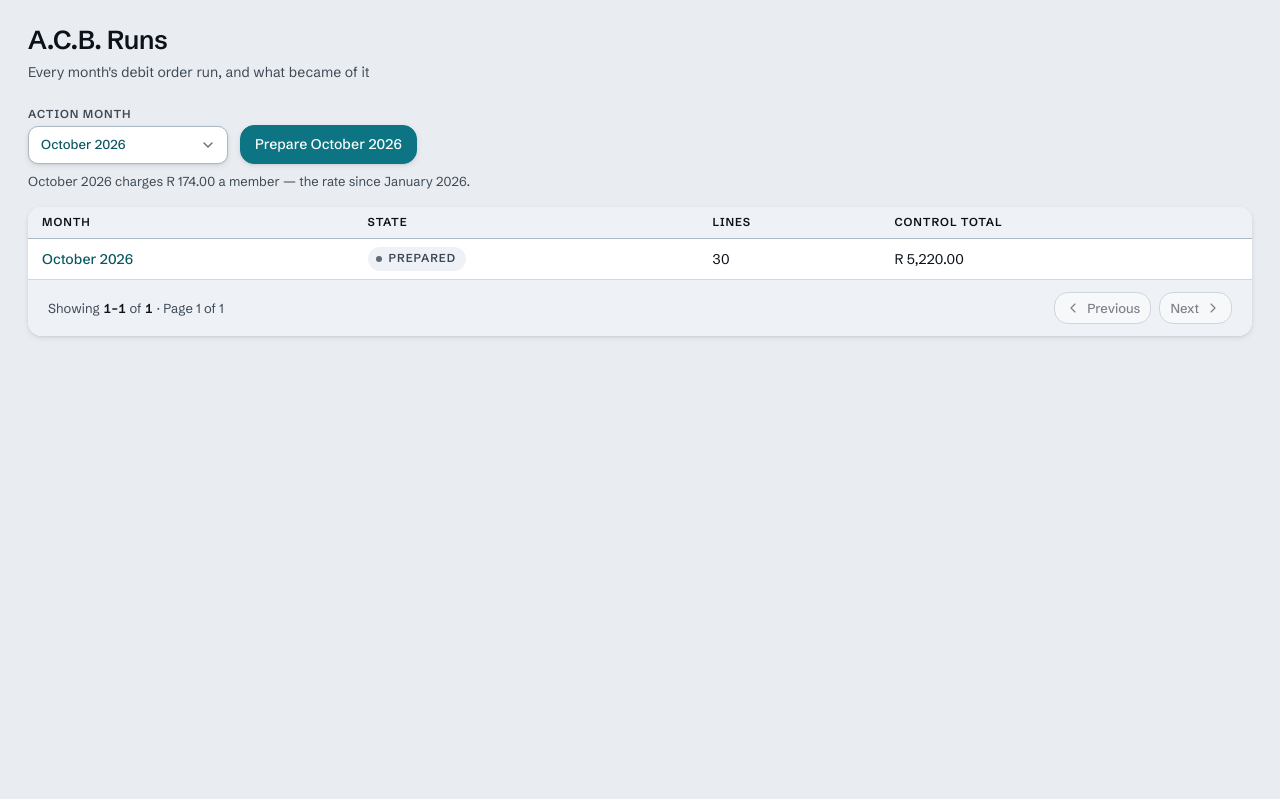
Test: preparing a run › an older list answer arriving last does not put the older list back (R3-F4)
This screenshot has width=1280, height=799.
Step 1. Click the button "Prepare October 2026" → {"x": 328, "y": 145}, box [240,125,417,164]
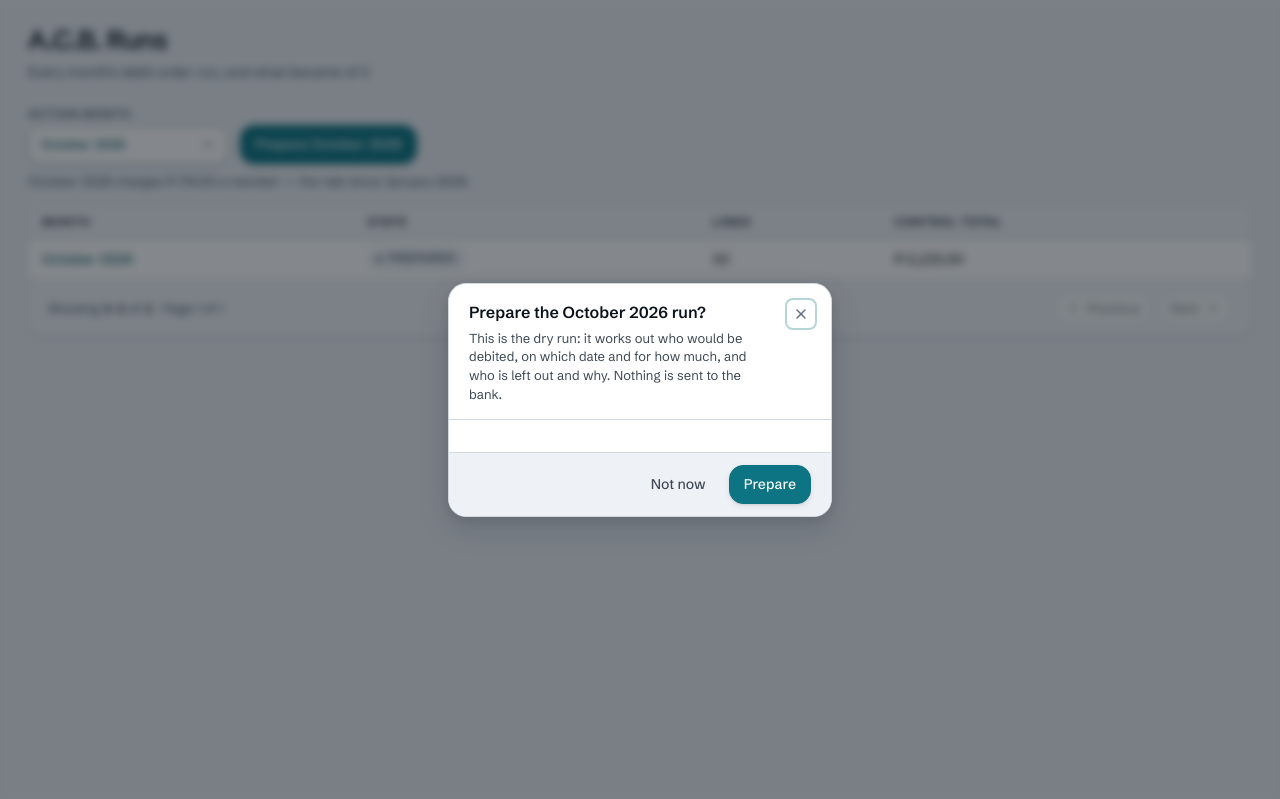
Step 2. Click the button "Prepare" → {"x": 770, "y": 485}, box [729,465,811,504]
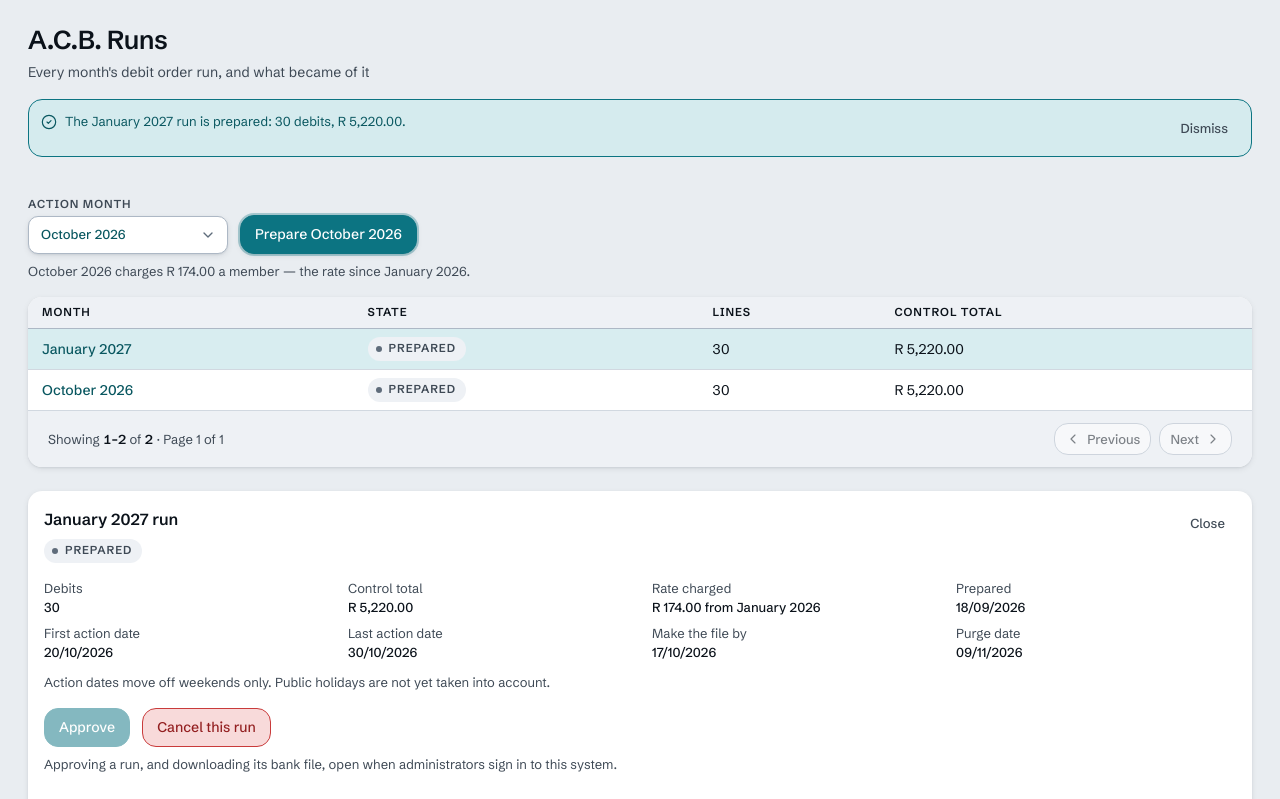
expect the button with aria-label "Open the January 2027 run" is shown: met, box [42,339,132,360]
